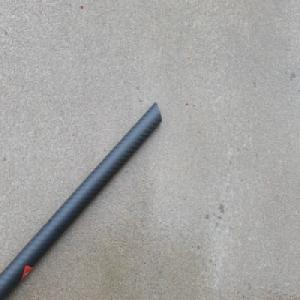LuggagePart: (0, 99, 162, 300)
